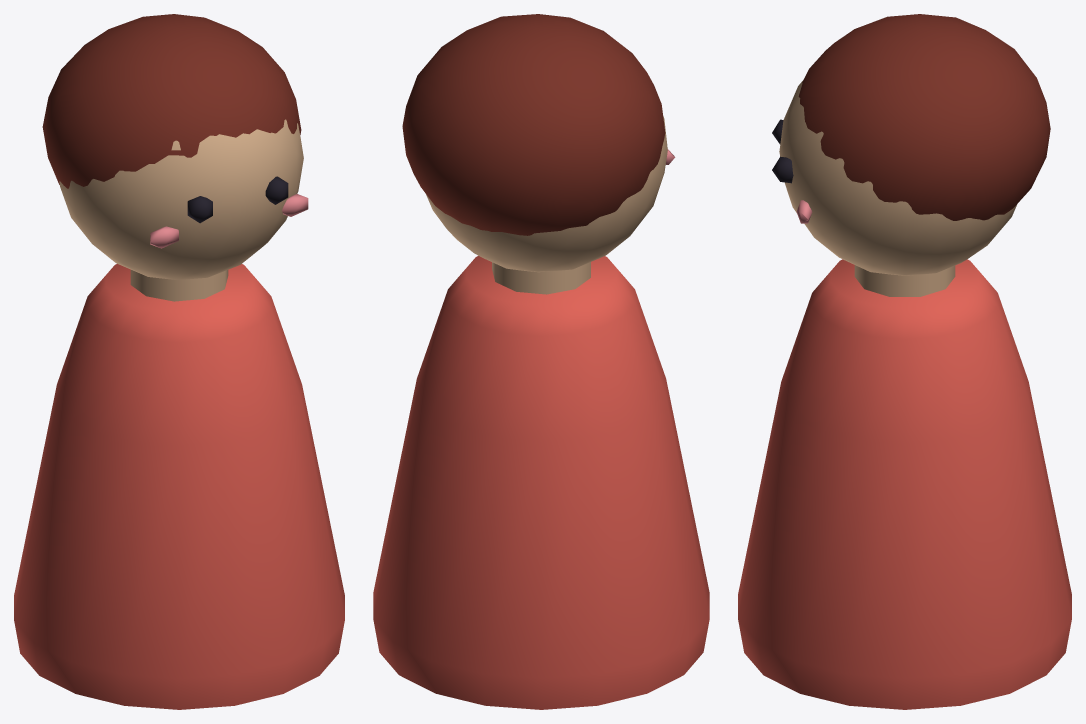
Rendered from person_rosa.fbx.
3 views of the same model, side by side, from view 1: azimuth 30°, elevation 25°; view 2: azimuth 150°, elevation 25°; view 3: azimuth 270°, elevation 25° (orthographic).
Parts seen in each view (by area): view 1: Body, Head; view 2: Body, Head; view 3: Body, Head.
Part boxes in pixels (<box>): Body: <box>14,264,344,709</box>; Head: <box>42,14,308,279</box>; Body: <box>373,256,709,709</box>; Head: <box>402,14,675,272</box>; Body: <box>738,259,1071,709</box>; Head: <box>772,14,1050,275</box>.
Bounding box in the file's own units: 0.27 × 0.5394 × 0.2659.
